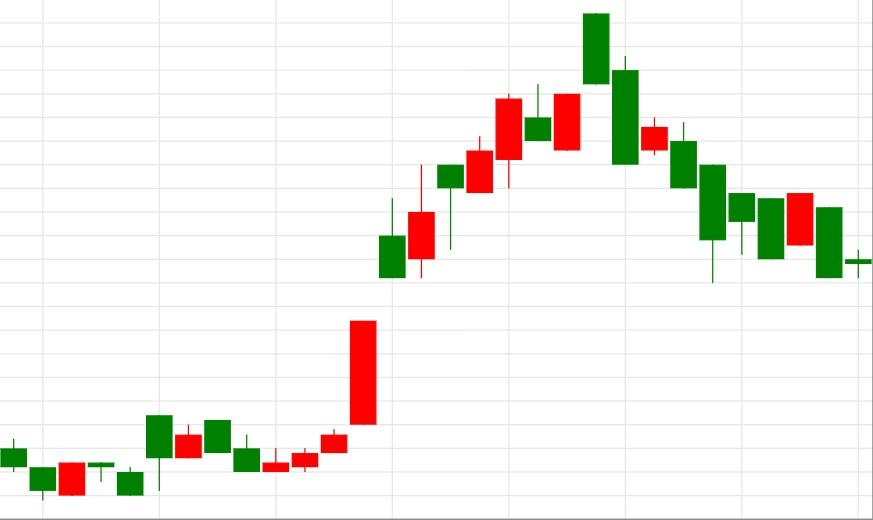hanging_man_fall: (262, 163, 465, 473)
three_white_soldiers_rise: (203, 320, 378, 473)
